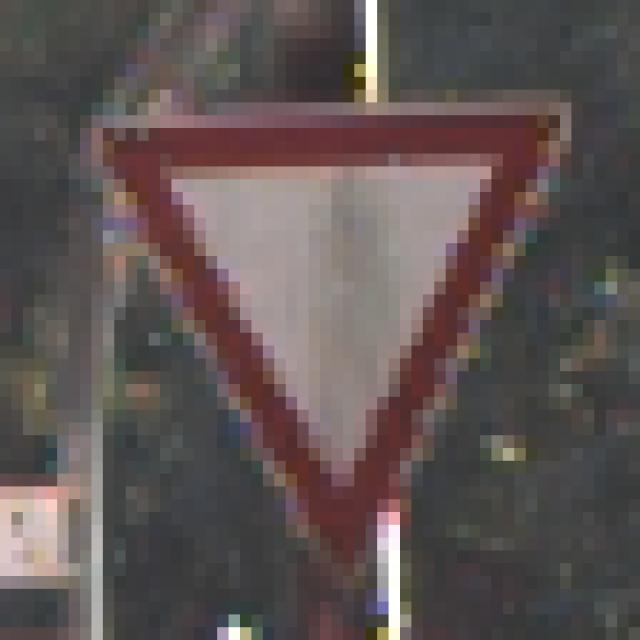Give Way: (69, 65, 584, 577)
